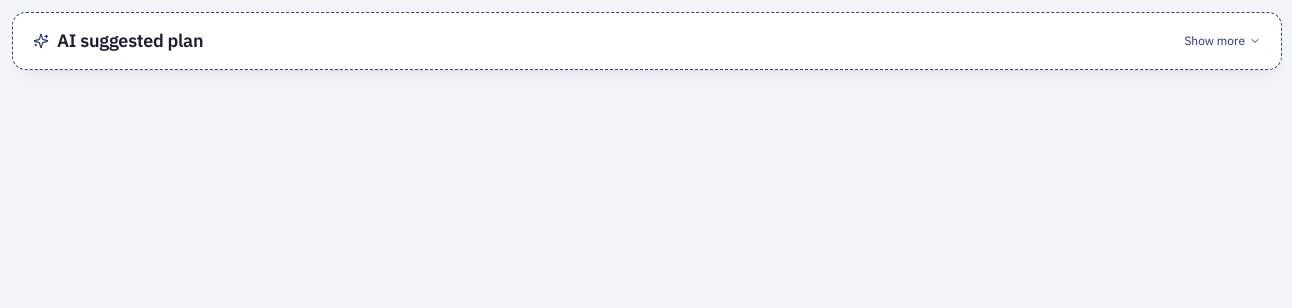
Scenario: SuggestedPlanCard › hides prescription and plan medicines when template lacks prescription
Step 1. Click the heading "AI suggested plan" → {"x": 130, "y": 40}, box [57,29,203,52]
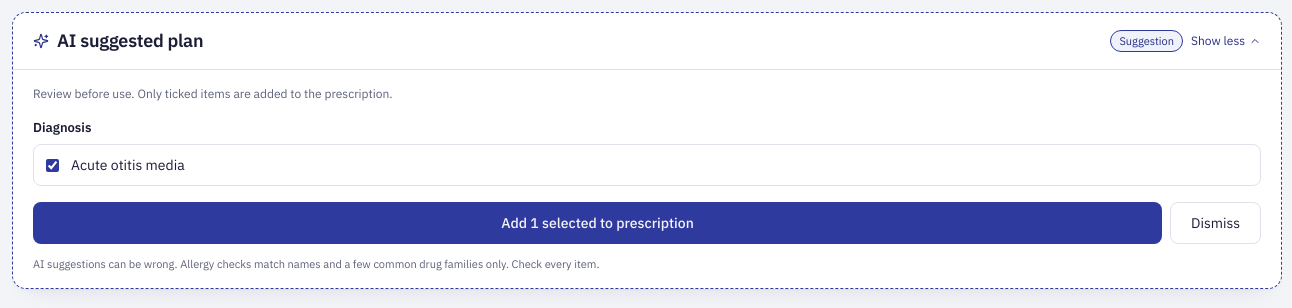
expect the text "Acute otitis media" is shown: met, box [71,156,185,174]
